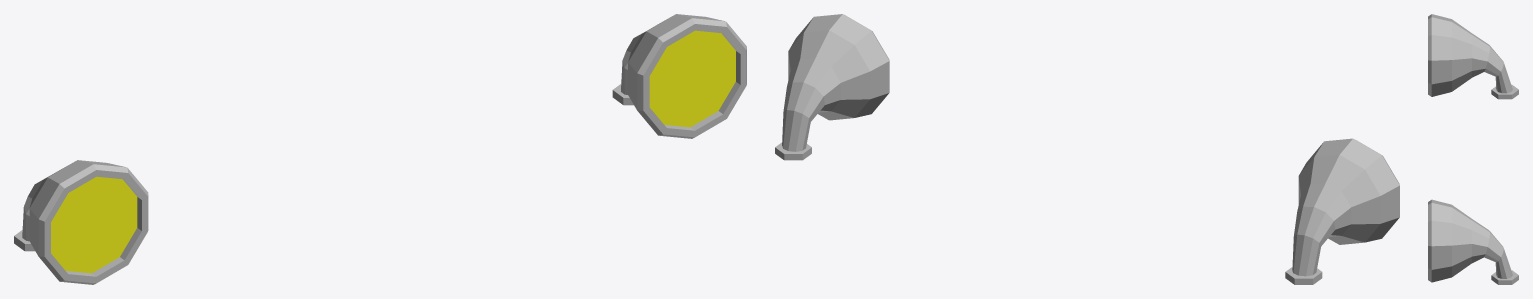
Rendered from Lights_Kart1.fbx.
3 views of the same model, side by side, from view 1: azimuth 30°, elevation 25°; view 2: azimuth 150°, elevation 25°; view 3: azimuth 270°, elevation 25° (orthographic). The views are drawn at different scales.
Visible parts, largest first — view 1: Lights_Kart1; view 2: Lights_Kart1; view 3: Lights_Kart1.
Part boxes in pixels (x1,y1,x2,y2): Lights_Kart1: (14,14,746,284); Lights_Kart1: (775,14,1399,284); Lights_Kart1: (1428,14,1518,284).
Bounding box in the file's own units: 517 × 84.8 × 90.51.
